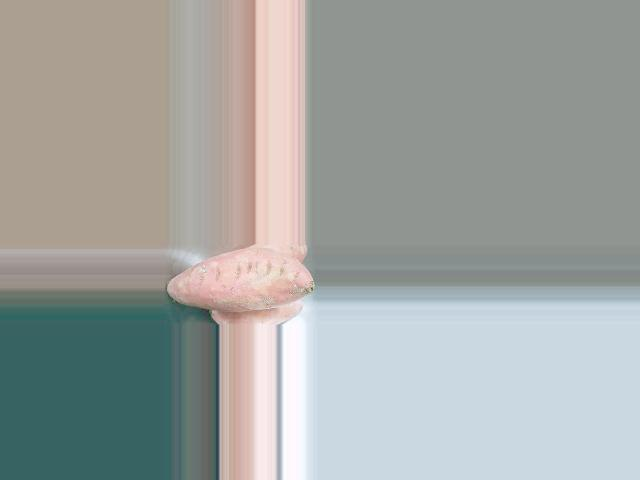sweet_potato: (168, 253, 314, 305)
